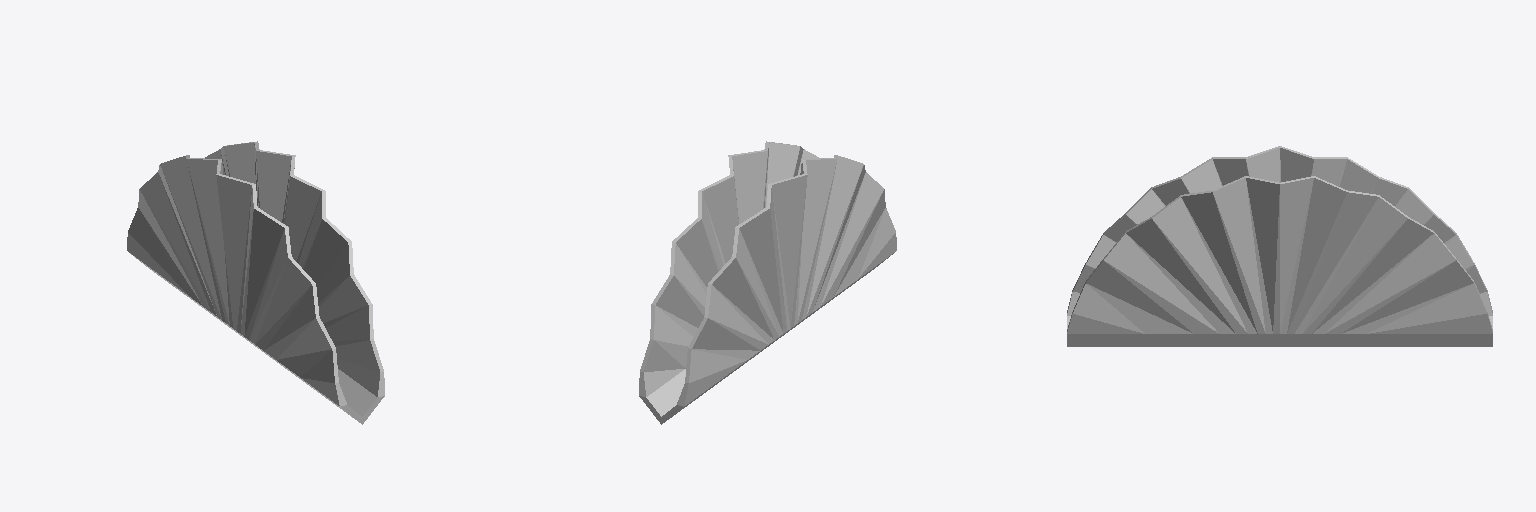
The model's file is clam.obj.
The picture shows the model from 3 angles: view 1: azimuth 30°, elevation 25°; view 2: azimuth 150°, elevation 25°; view 3: azimuth 270°, elevation 25°; orthographic projection.
Parts seen in each view (by area): view 1: pCylinder1; view 2: pCylinder1; view 3: pCylinder1.
Boxes of the visible parts, x1,y1,x2,y2 form: pCylinder1: [127, 141, 384, 424]; pCylinder1: [639, 141, 896, 424]; pCylinder1: [1067, 146, 1492, 346].
Size of the model in its own units: 0.21 by 0.46 by 0.9772.